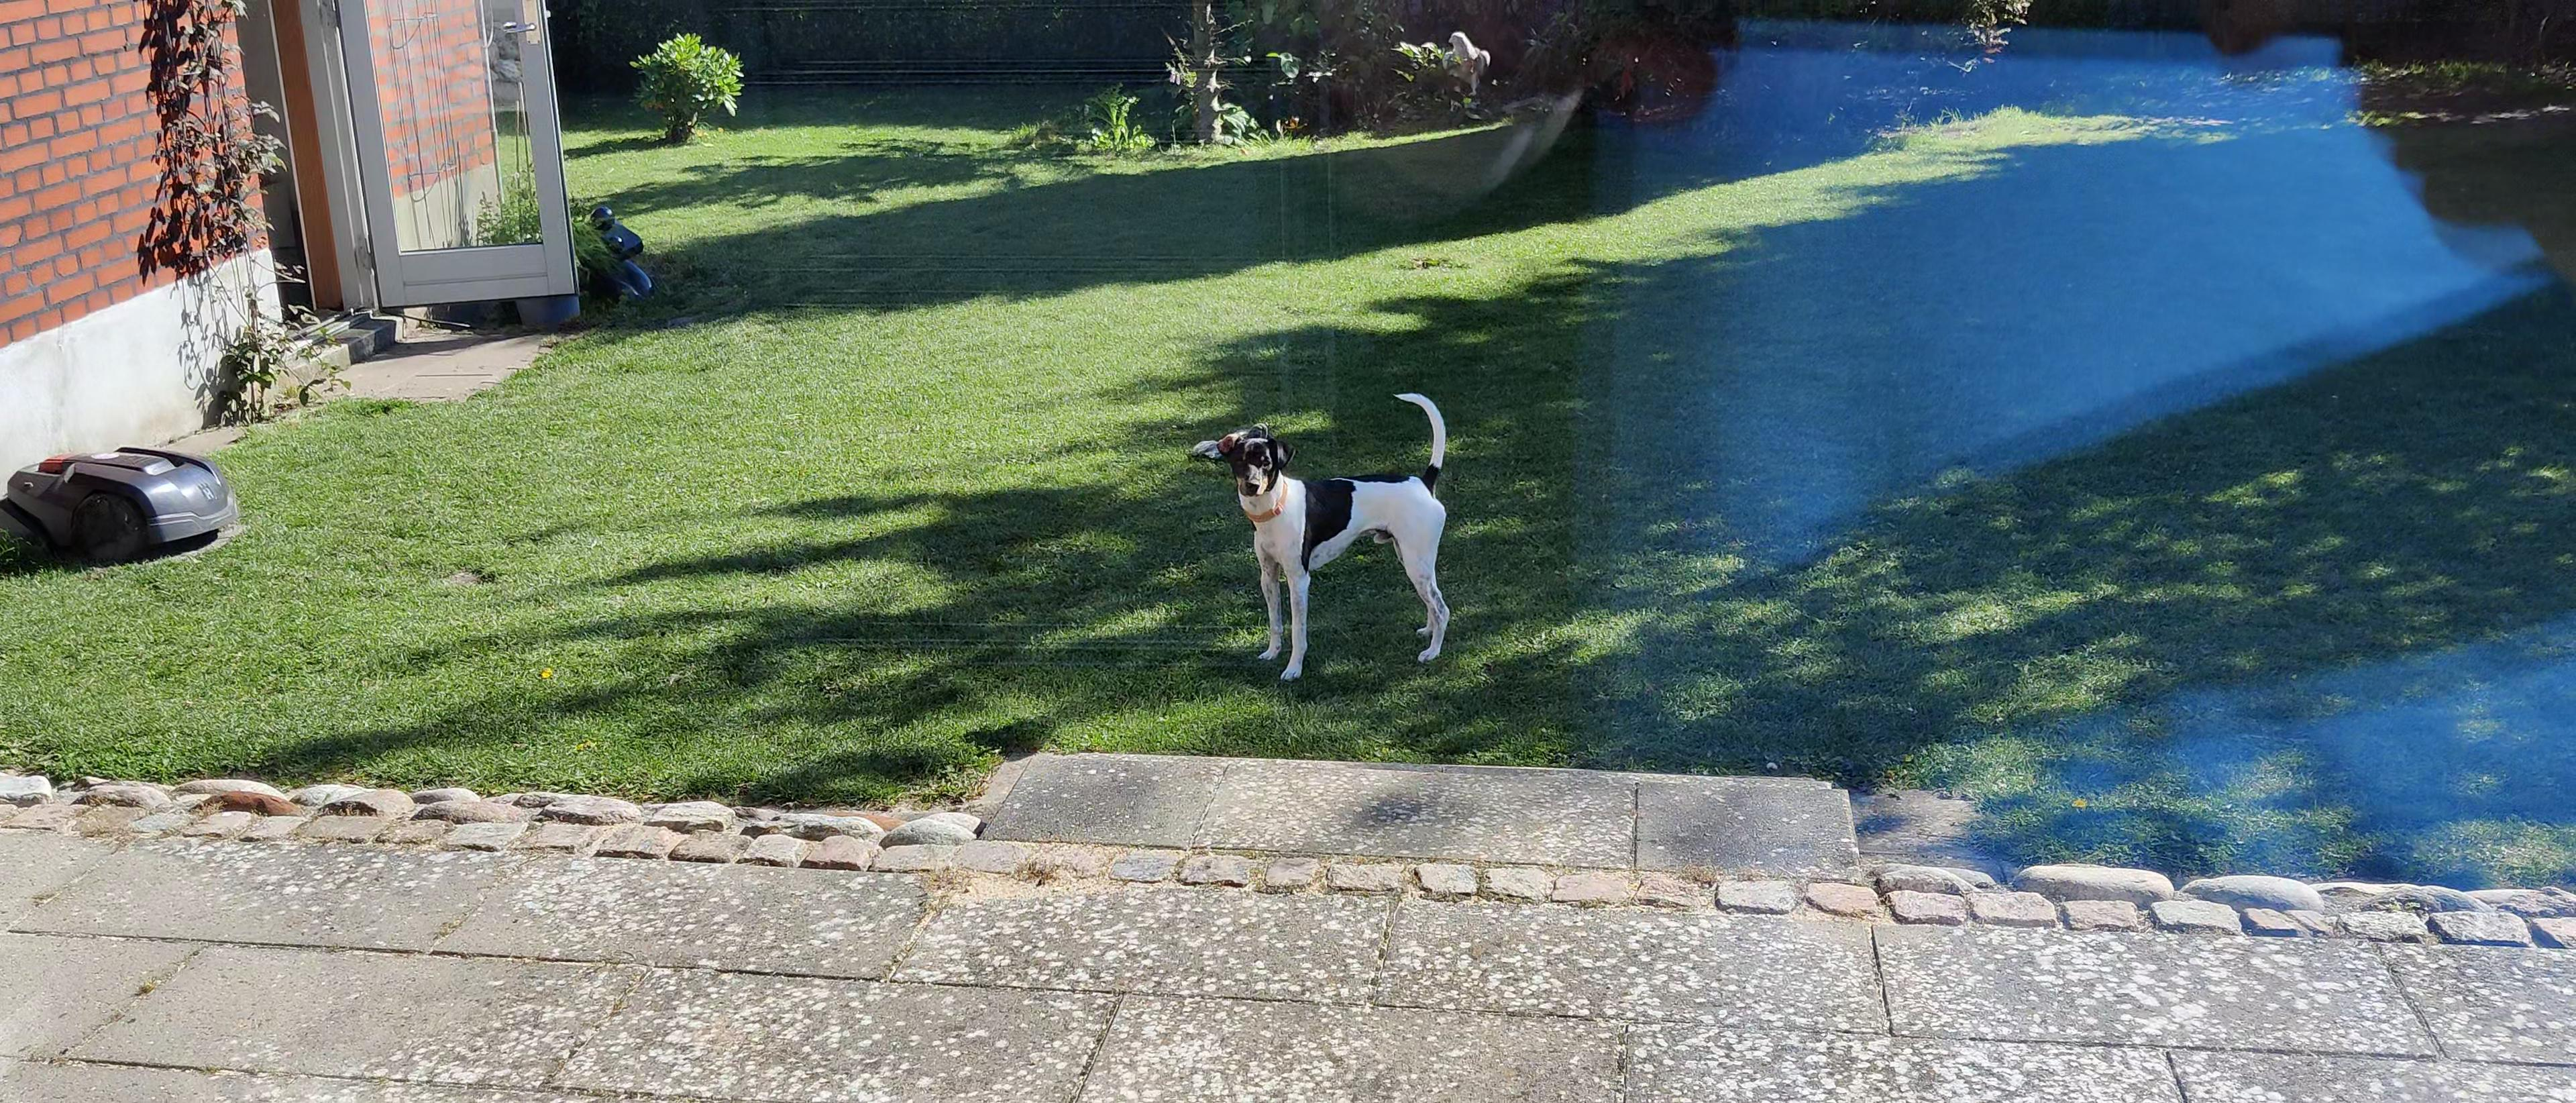Dog: (1216, 390, 1456, 681)
